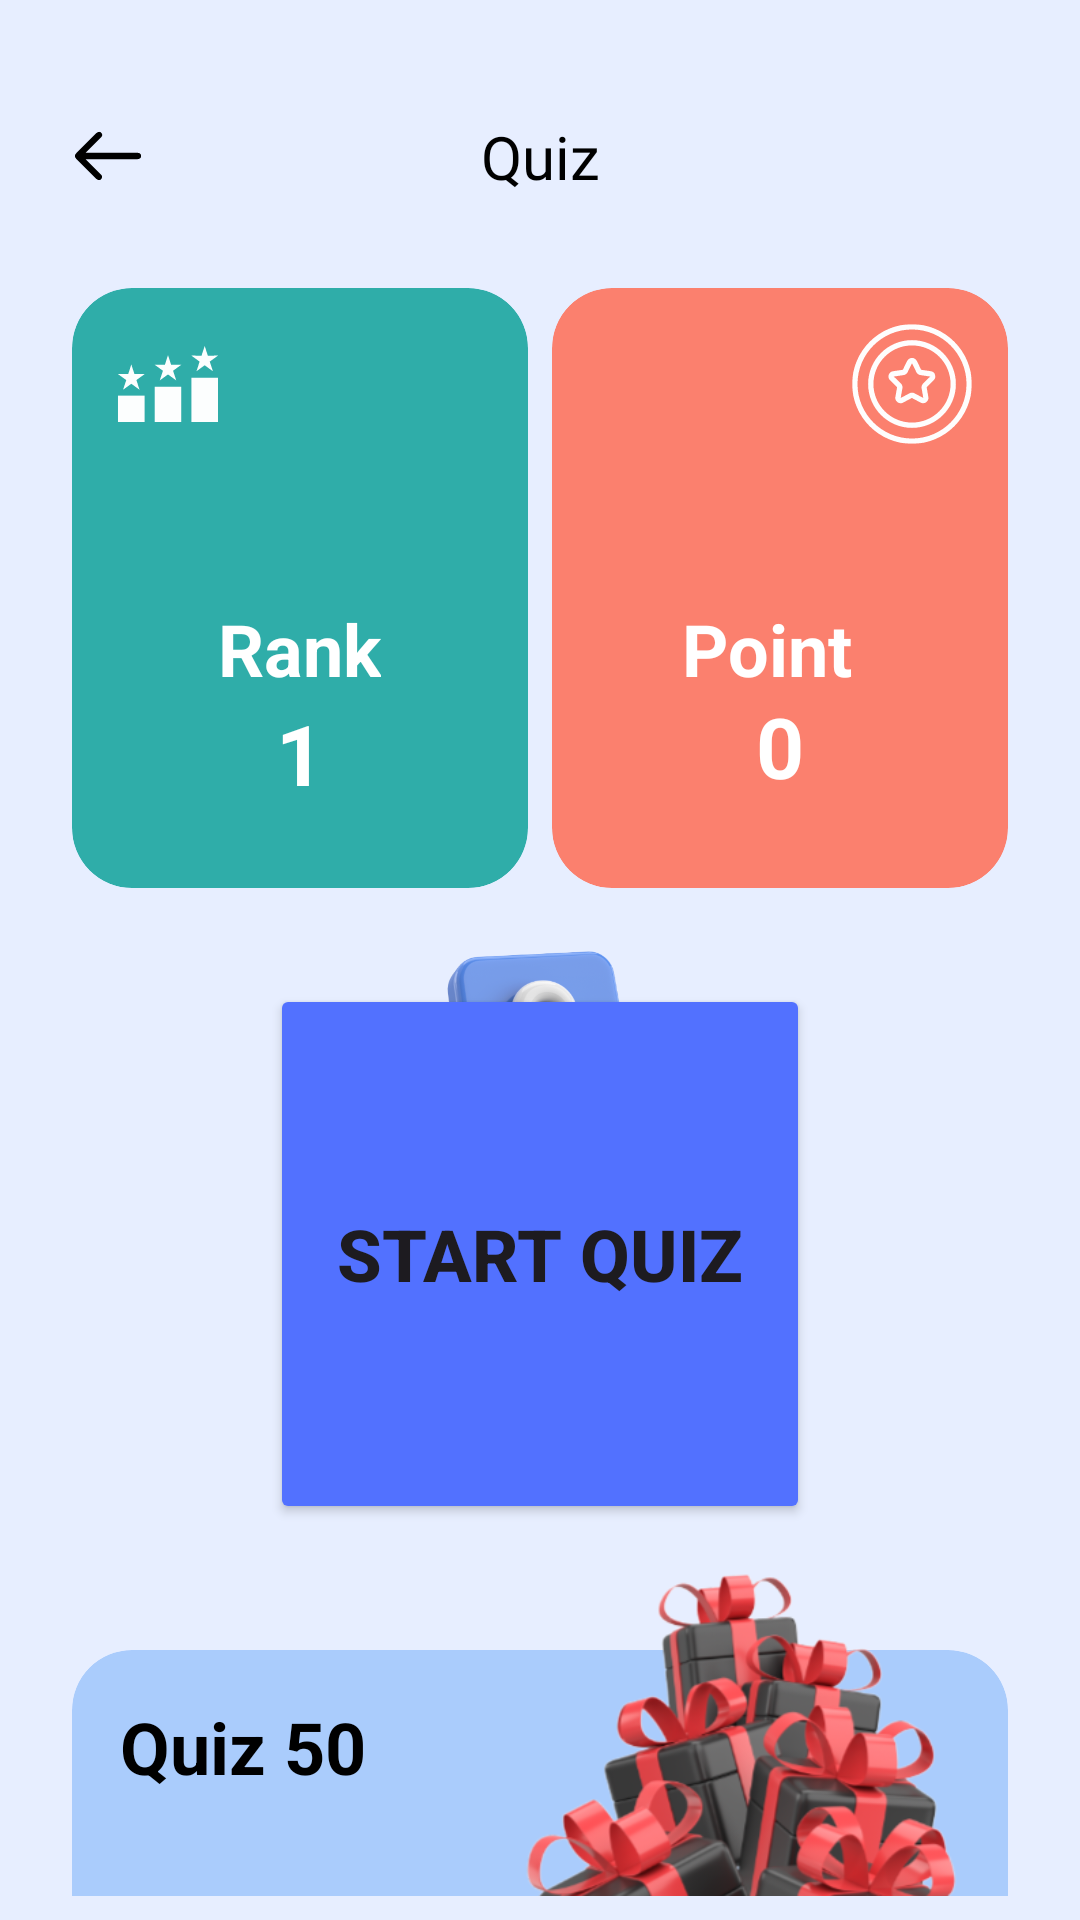

Icon bounding boxes for this 1080×1920 phone screenshot, format (x1, y1, x2, y2):
back: (75, 132, 141, 180)
